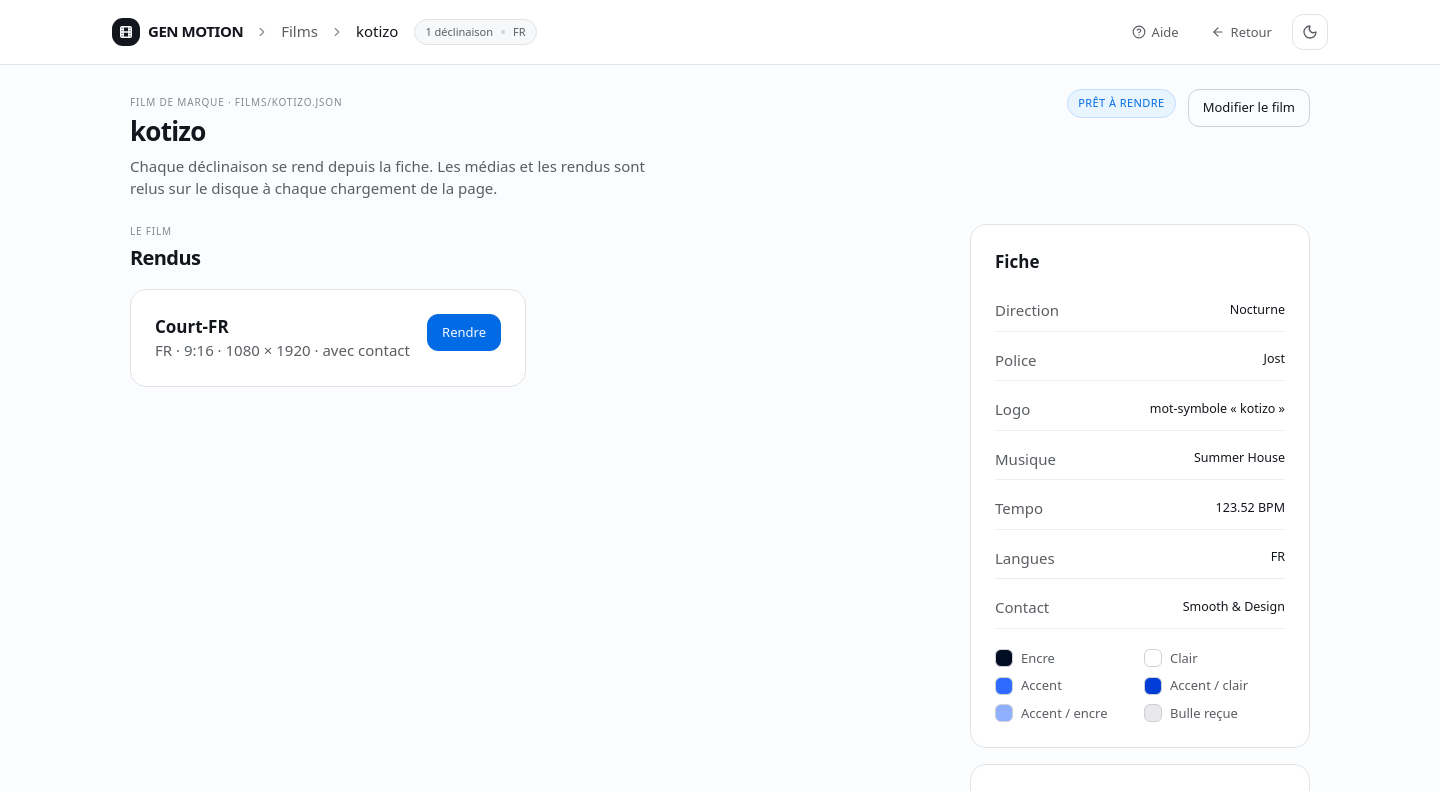
Test: édition Community › le refus Studio de la route s'affiche en clair, pas en code
Click the button "Rendre".
click(464, 332)  # box [427, 314, 501, 351]
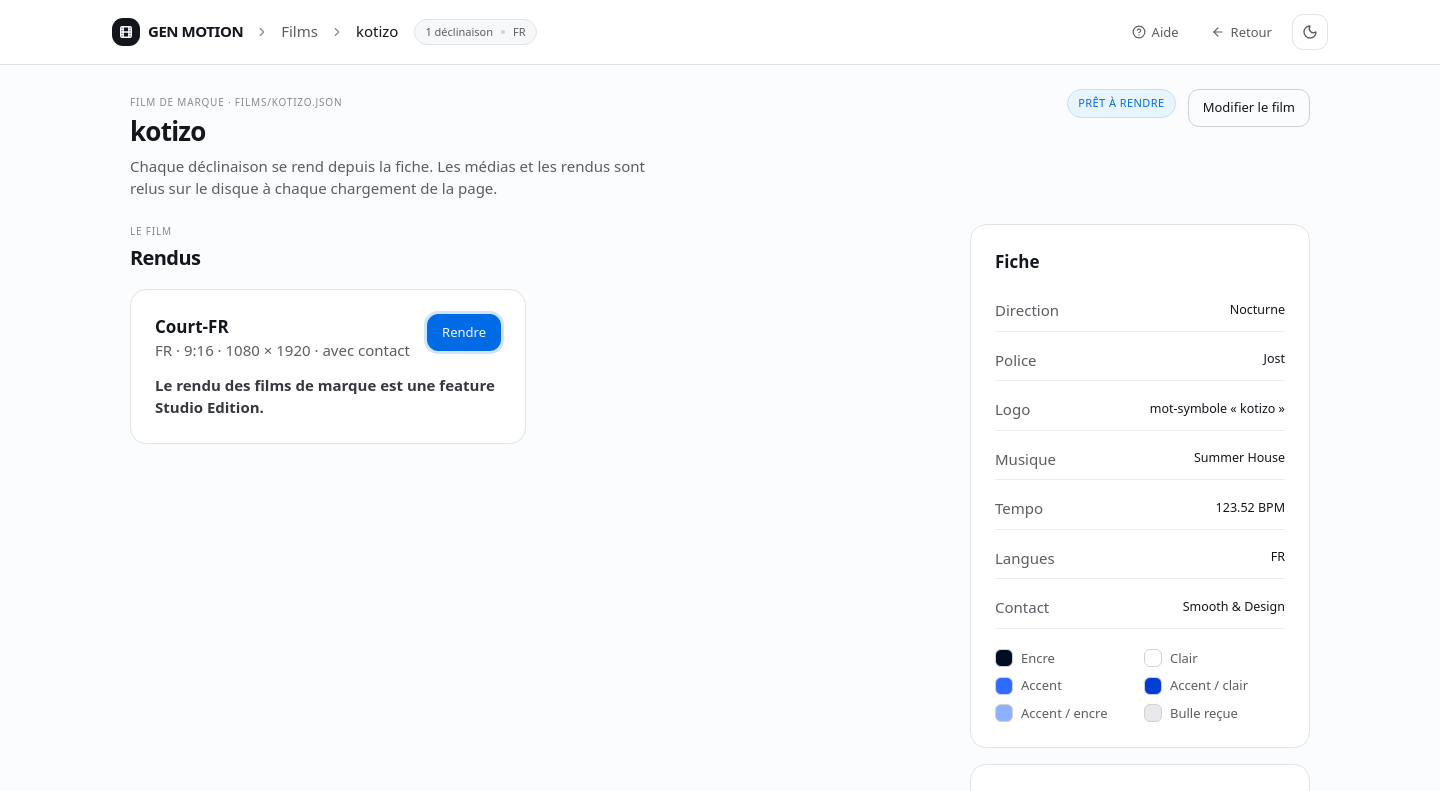
Expected: the message reads "Le rendu des films de marque est une feature Studio Edition.", [155, 374, 495, 417]
